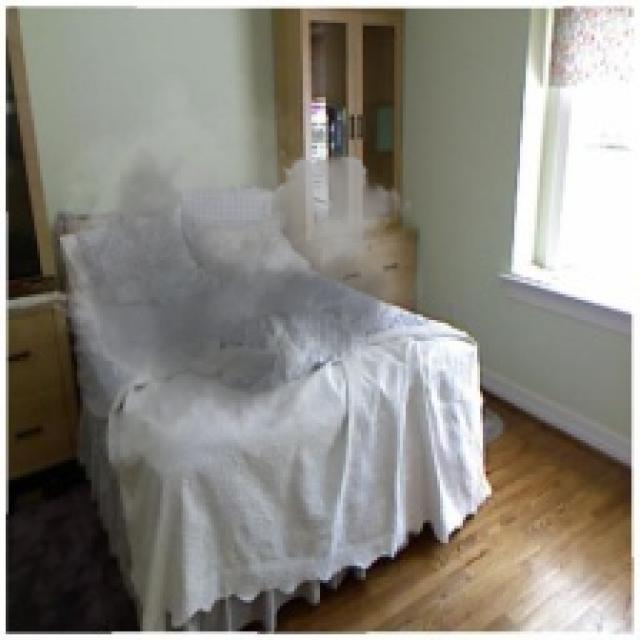Smoke: (40, 71, 426, 480)
